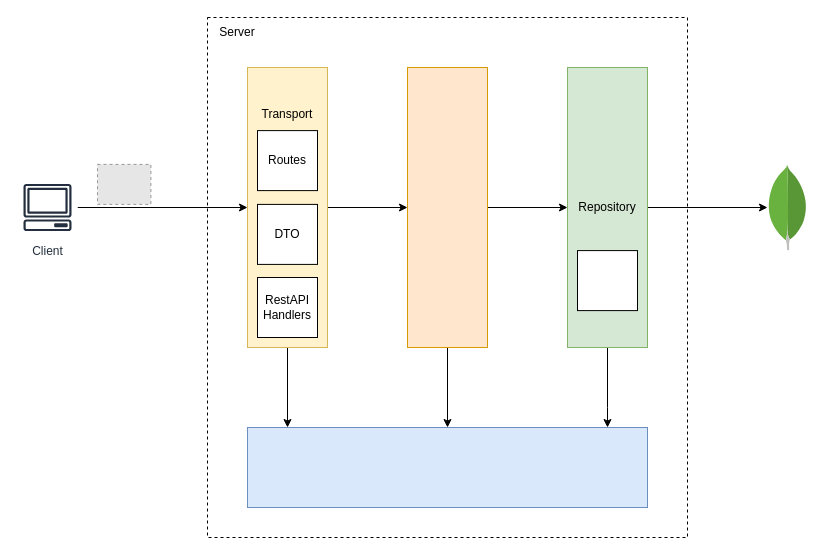
This 825x555 diagram has some shape labels left out. Grey dashed boxes stand in for pictures. The shapes that lost their labels are listed below. From the top down, each one's centre as x and y in pixels, then its label:
point (447, 207): Business
point (607, 280): Entity
point (447, 467): Composer (DI Container)
